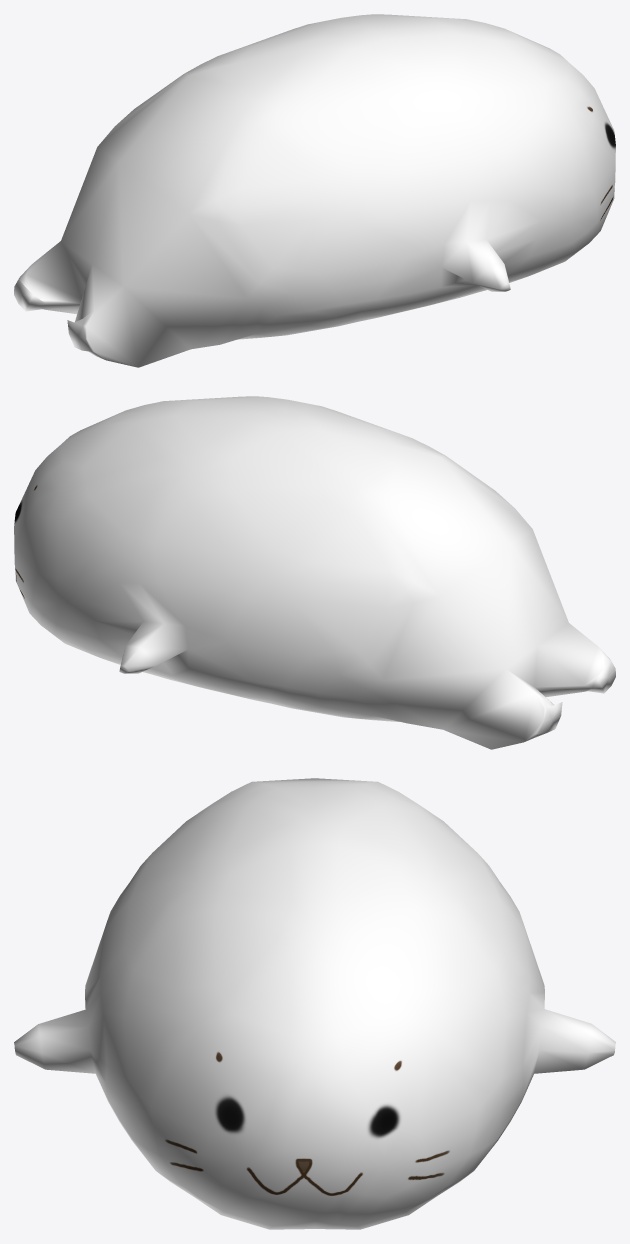
Rendered from sirotan.BNt9x36u.glb.
The picture shows the model from 3 angles, top to bottom: view 1: azimuth 30°, elevation 25°; view 2: azimuth 150°, elevation 25°; view 3: azimuth 270°, elevation 25°; orthographic projection. The views are drawn at different scales.
Visible parts, largest first — view 1: Icosphere; view 2: Icosphere; view 3: Icosphere.
Boxes of the visible parts, bbox=[...] form: Icosphere: bbox=[14, 14, 615, 367]; Icosphere: bbox=[14, 396, 615, 749]; Icosphere: bbox=[14, 778, 615, 1229].
Size of the model in its own units: 3.12 by 1.3 by 2.47.
1 material, 1 textured.
